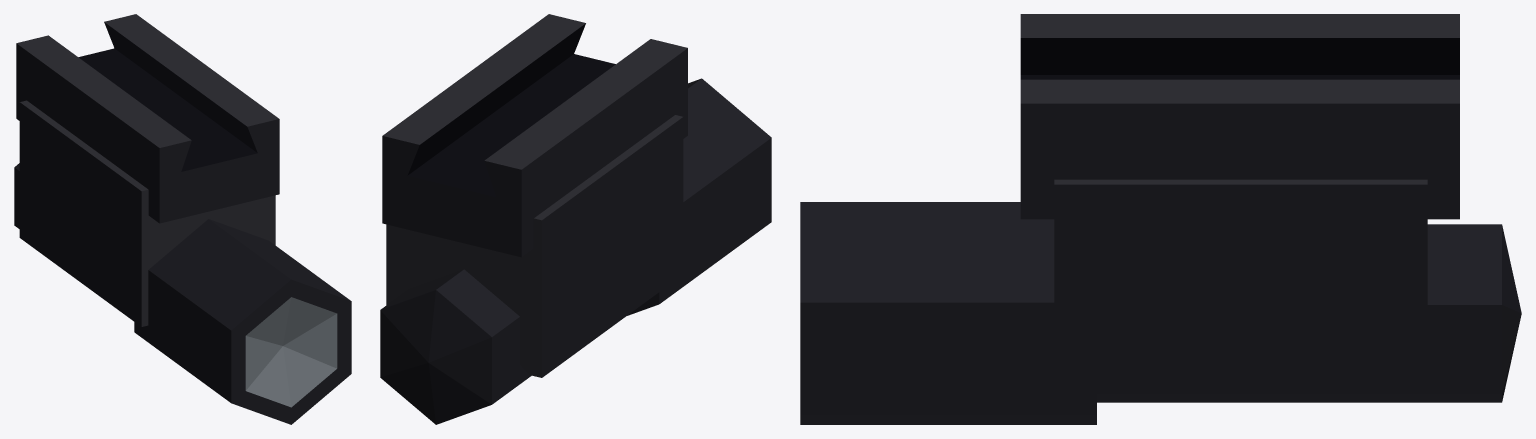
The model's file is MW1_Device_Flashlight_01.fbx.
3 views of the same model, side by side, from view 1: azimuth 30°, elevation 25°; view 2: azimuth 150°, elevation 25°; view 3: azimuth 270°, elevation 25° (orthographic). The views are drawn at different scales.
Visible parts, largest first — view 1: Device_Flashlight_01; view 2: Device_Flashlight_01; view 3: Device_Flashlight_01.
Boxes of the visible parts, x1,y1,x2,y2 form: Device_Flashlight_01: [14, 14, 351, 424]; Device_Flashlight_01: [380, 14, 771, 424]; Device_Flashlight_01: [800, 14, 1521, 424].
Bounding box in the file's own units: 2.41 × 4.11 × 7.33.
